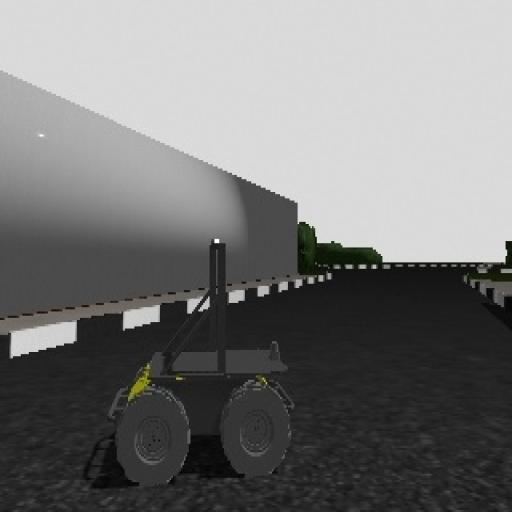huskya200: (104, 231, 330, 479)
